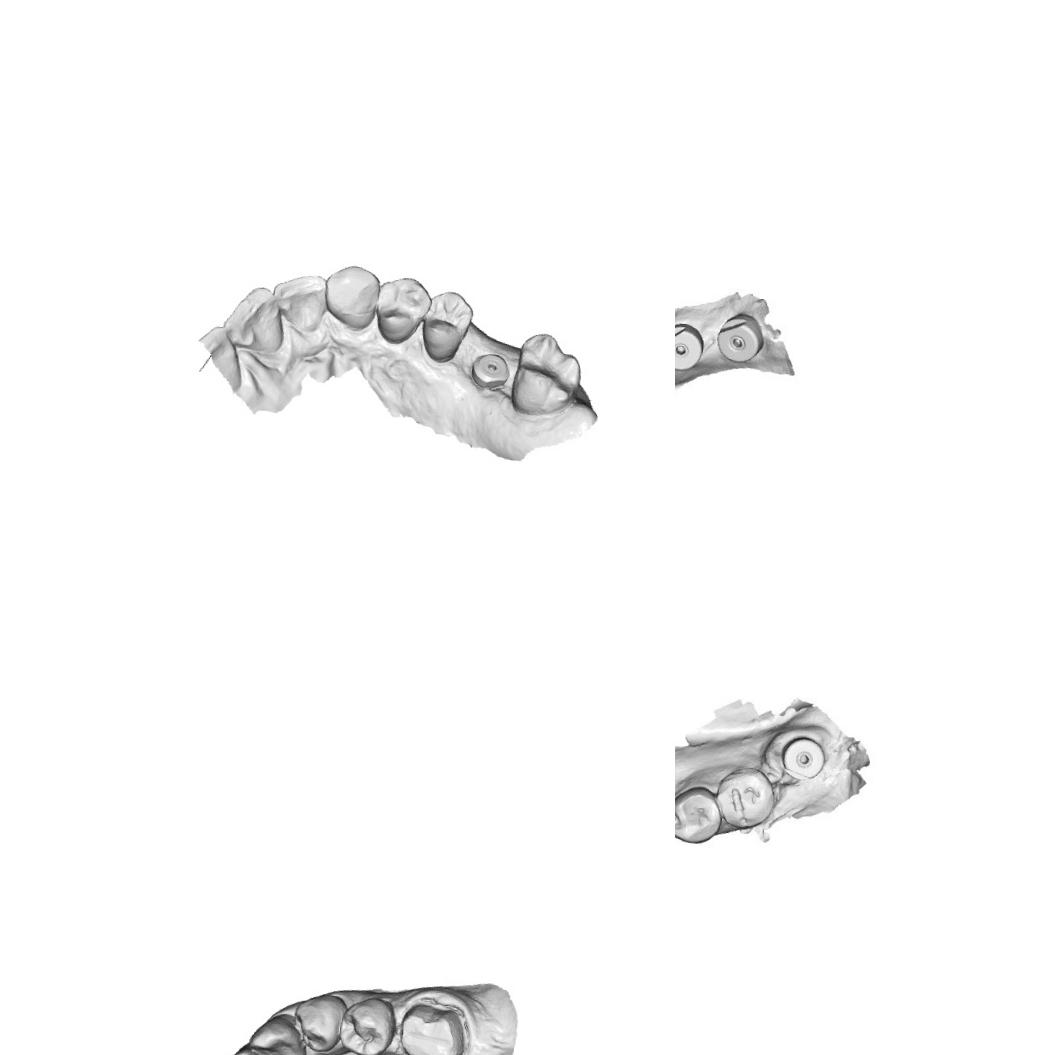canine: (320, 260, 384, 334), (245, 1013, 311, 1055)
crown: (394, 993, 474, 1055)
implant: (714, 309, 768, 362), (780, 731, 828, 785), (467, 348, 513, 394), (675, 317, 707, 377)
incisor: (218, 282, 290, 356), (268, 268, 330, 336), (192, 322, 248, 392), (220, 1044, 285, 1055)
molar: (508, 328, 586, 421)
premolar: (371, 273, 435, 349), (416, 287, 476, 366), (708, 768, 776, 831), (334, 992, 401, 1055), (288, 989, 350, 1055), (675, 783, 724, 850)
